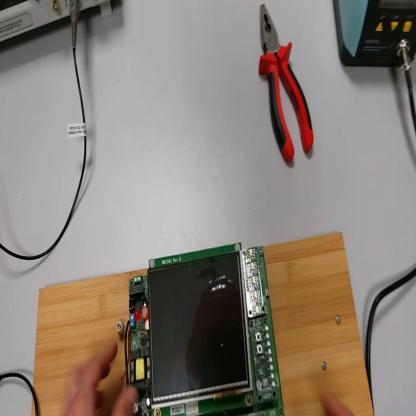hand: (63, 336, 139, 416), (321, 393, 356, 415)
low voltage board: (120, 243, 283, 416)
oscilloscope: (2, 1, 113, 48)
pliers: (259, 4, 315, 169)
welder station: (333, 2, 416, 70)
working area: (36, 231, 376, 416)
